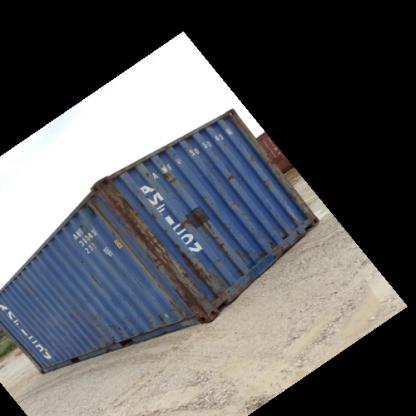Damage: (99, 182, 169, 294), (170, 235, 231, 315), (194, 211, 241, 251), (84, 309, 132, 344), (150, 157, 183, 190), (265, 226, 291, 251), (220, 165, 243, 190), (254, 171, 276, 197), (152, 306, 170, 331), (246, 148, 258, 164)
